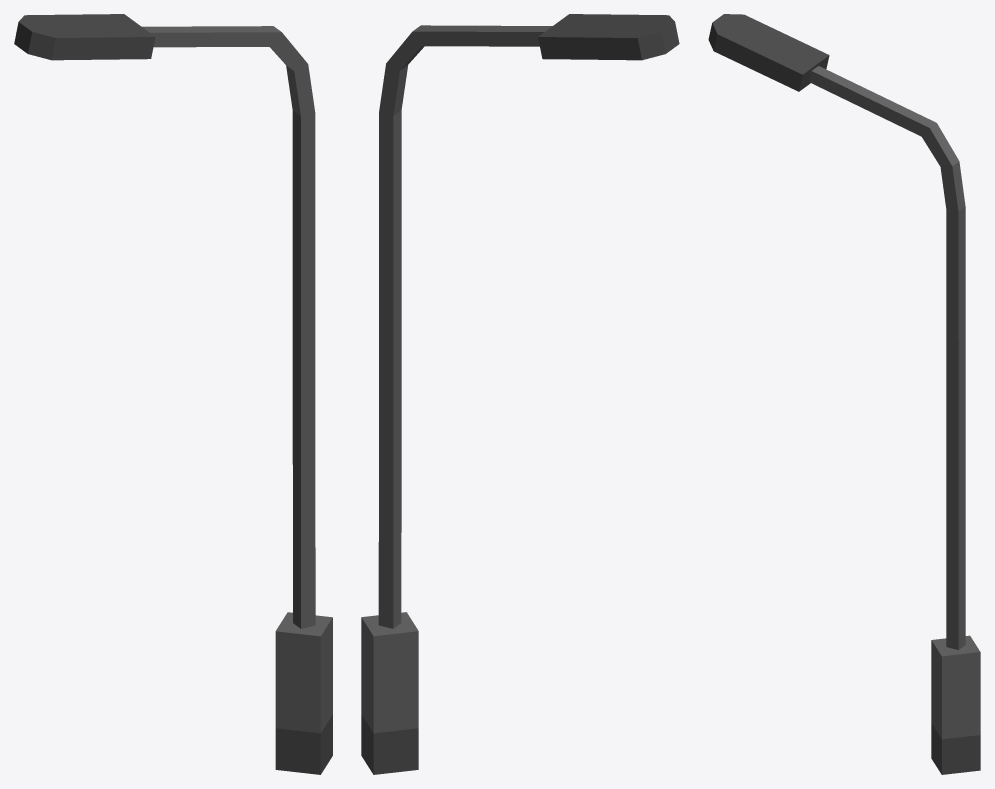
File: street lamp 1.FBX
3 renders of one model, left to right at view 1: azimuth 30°, elevation 25°; view 2: azimuth 150°, elevation 25°; view 3: azimuth 330°, elevation 25°, orthographic. The views are drawn at different scales.
Visible parts, largest first — view 1: Cylinder01; view 2: Cylinder01; view 3: Cylinder01.
Boxes of the visible parts, <box> form: Cylinder01: <box>14,14,332,774</box>; Cylinder01: <box>361,14,679,774</box>; Cylinder01: <box>708,14,980,774</box>.
Bounding box in the file's own units: 8.77 × 21.62 × 1.61.
Materials: 1 (1 with a texture image).
